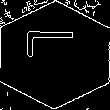L_E: (26, 39, 84, 71)
